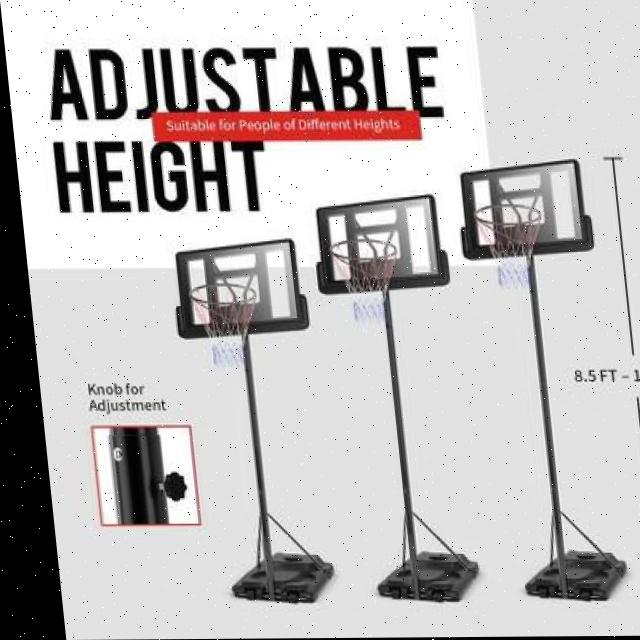hoop: (475, 204, 550, 291), (329, 239, 405, 323), (188, 283, 264, 367)
